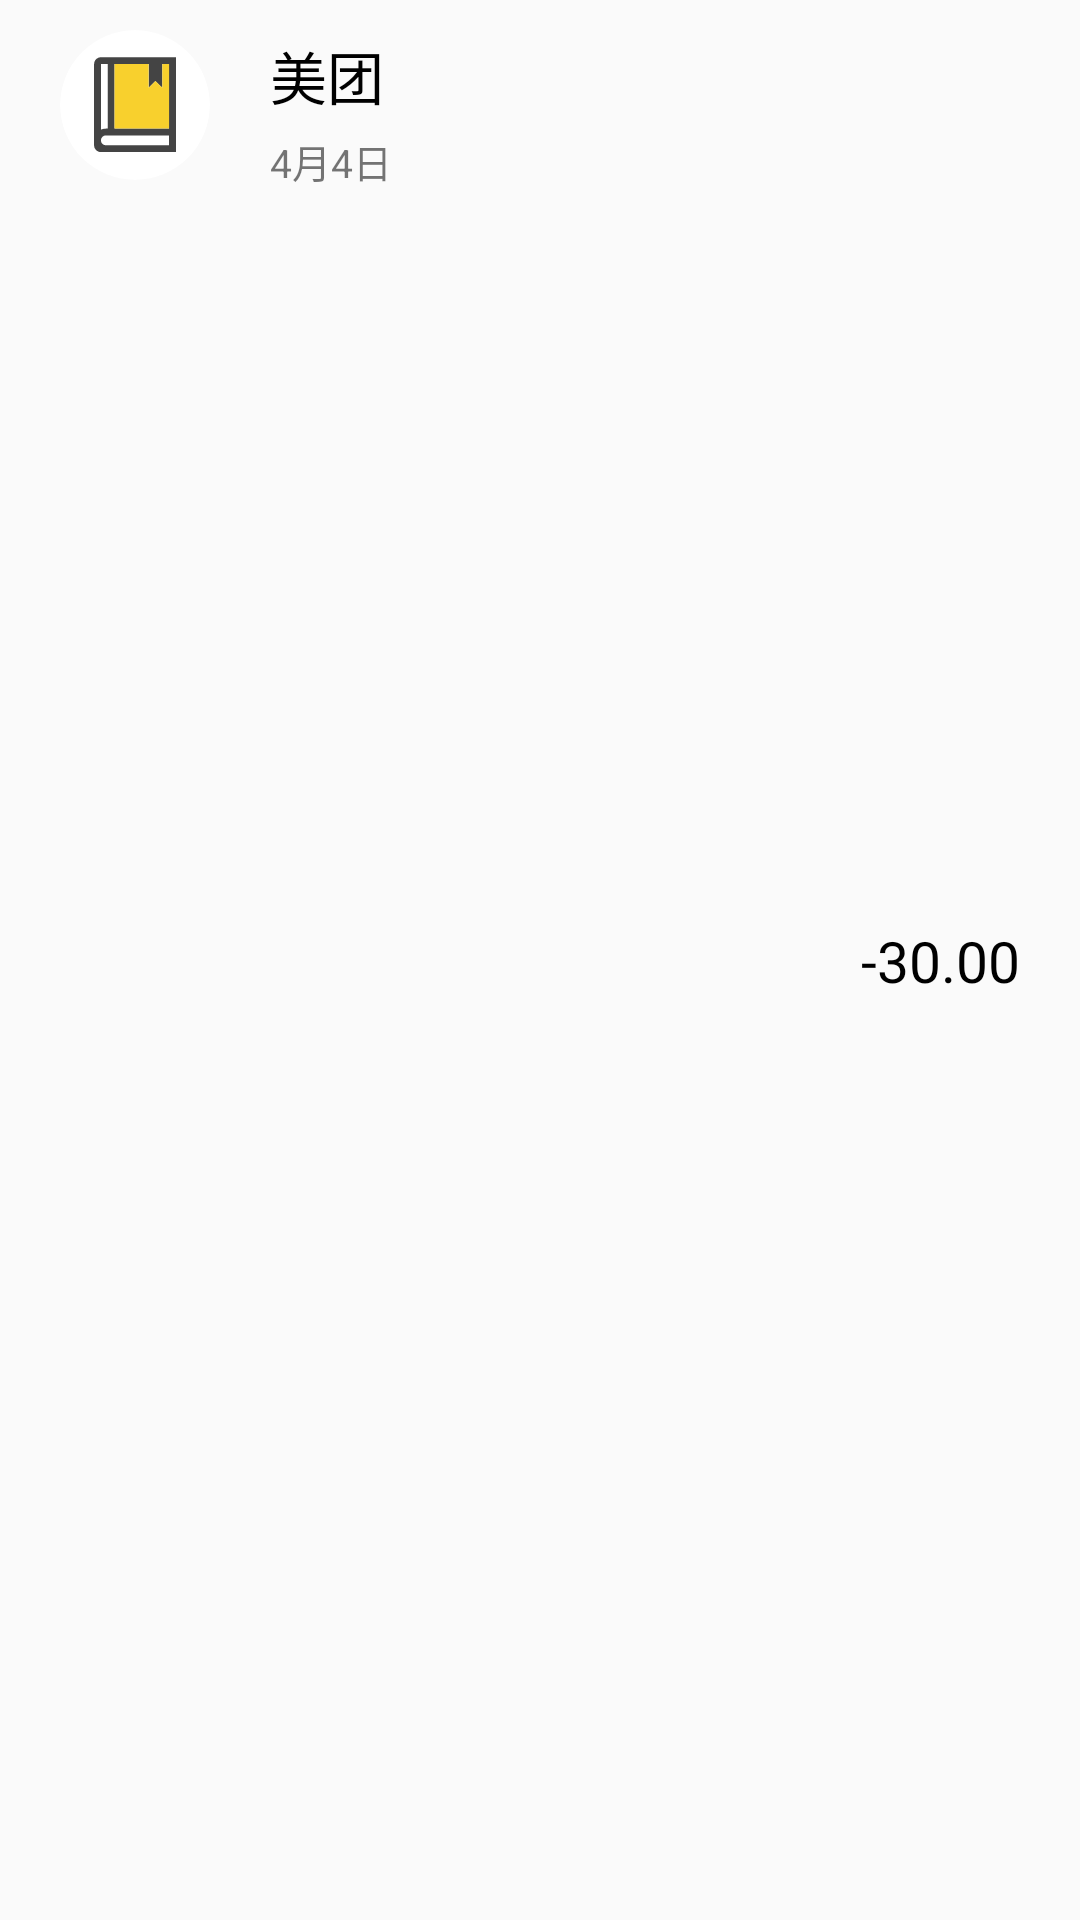

Named icons in this screenshot (1080x1920) and their centers, point (x, y):
book: point (135, 104)
